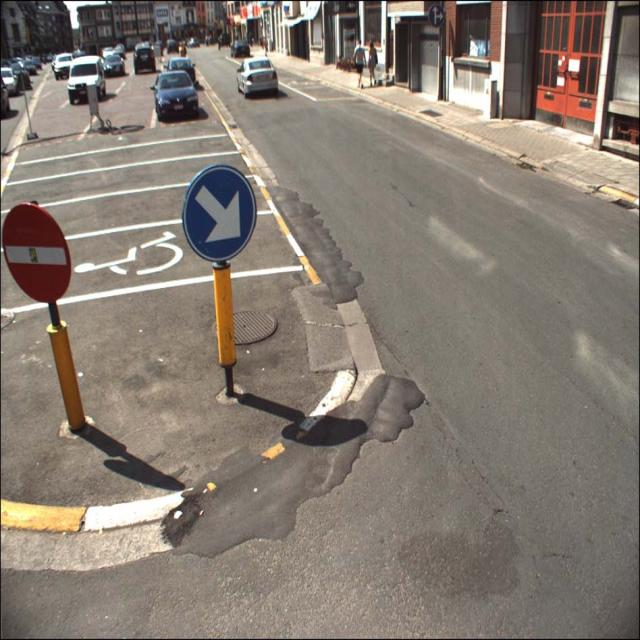girisyok: (1, 204, 73, 303)
